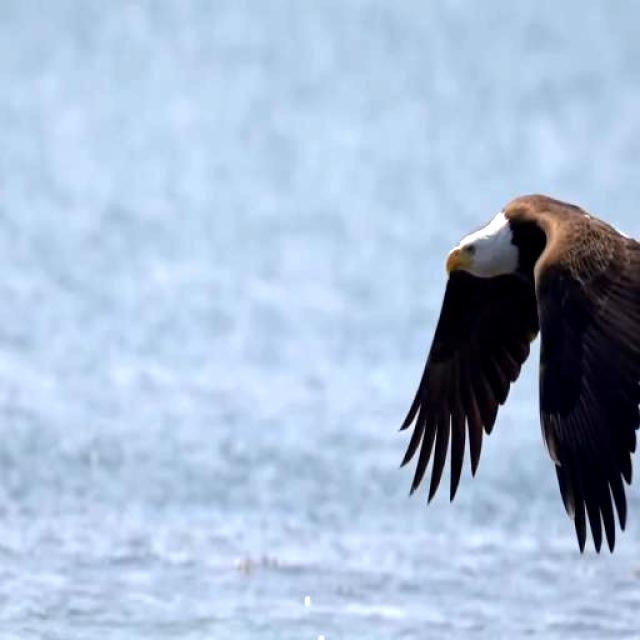airplane: (398, 179, 640, 559)
